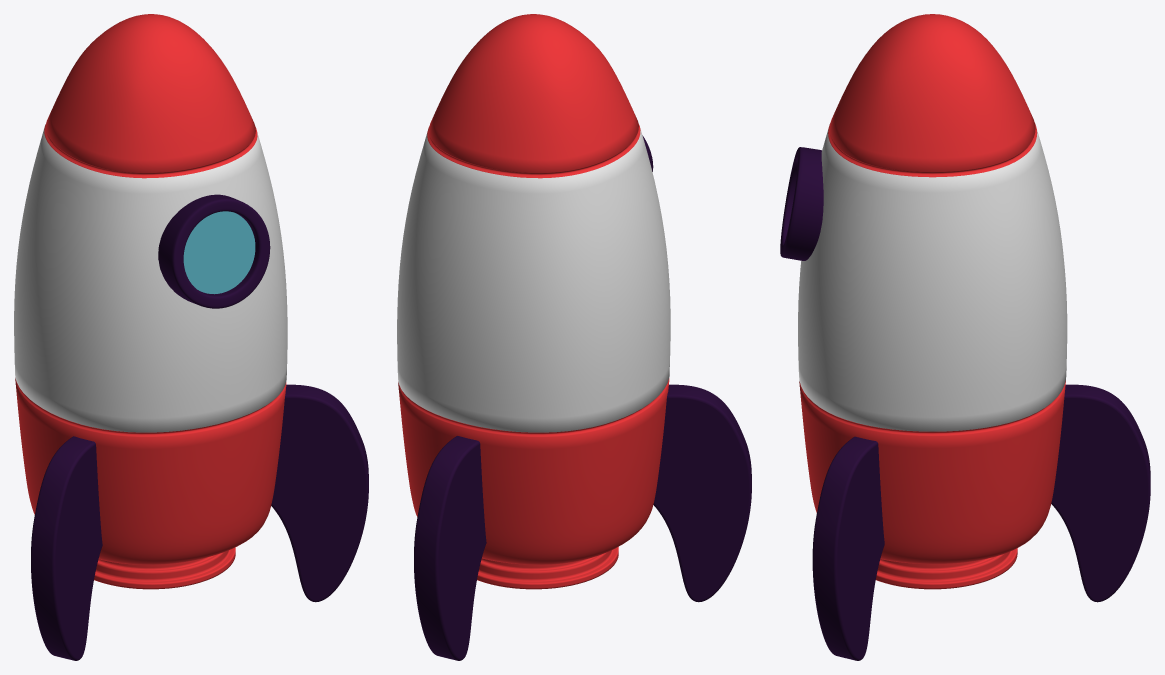
The model's file is rocket.glb.
3 views of the same model, side by side, from view 1: azimuth 30°, elevation 25°; view 2: azimuth 150°, elevation 25°; view 3: azimuth 270°, elevation 25° (orthographic).
Visible parts, largest first — view 1: Cube, BezierCircle.002, BezierCircle, Cylinder; view 2: Cube, BezierCircle, BezierCircle.001; view 3: Cube, BezierCircle.001, BezierCircle.002, Cylinder.
Part boxes in pixels (box(x1,y1,x2,y2)): Cube: box(14, 14, 287, 589); BezierCircle.002: box(271, 384, 368, 602); BezierCircle: box(31, 436, 102, 660); Cylinder: box(158, 194, 270, 308); Cube: box(397, 14, 670, 589); BezierCircle: box(653, 384, 751, 602); BezierCircle.001: box(414, 436, 486, 660); Cube: box(798, 14, 1067, 589); BezierCircle.001: box(1051, 384, 1150, 602); BezierCircle.002: box(812, 436, 884, 660); Cylinder: box(780, 147, 823, 260).
Bounding box in the file's own units: 2.96 × 4.85 × 2.81.
